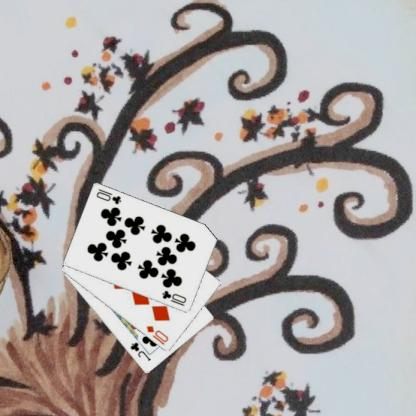10C: (160, 288, 190, 308), (95, 186, 125, 206)
10D: (146, 323, 172, 347)
JC: (129, 340, 154, 363)
